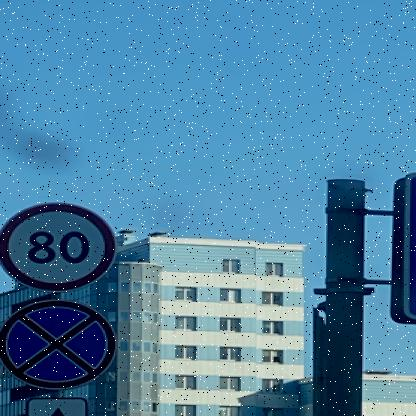speedlimit: (0, 201, 115, 293)
